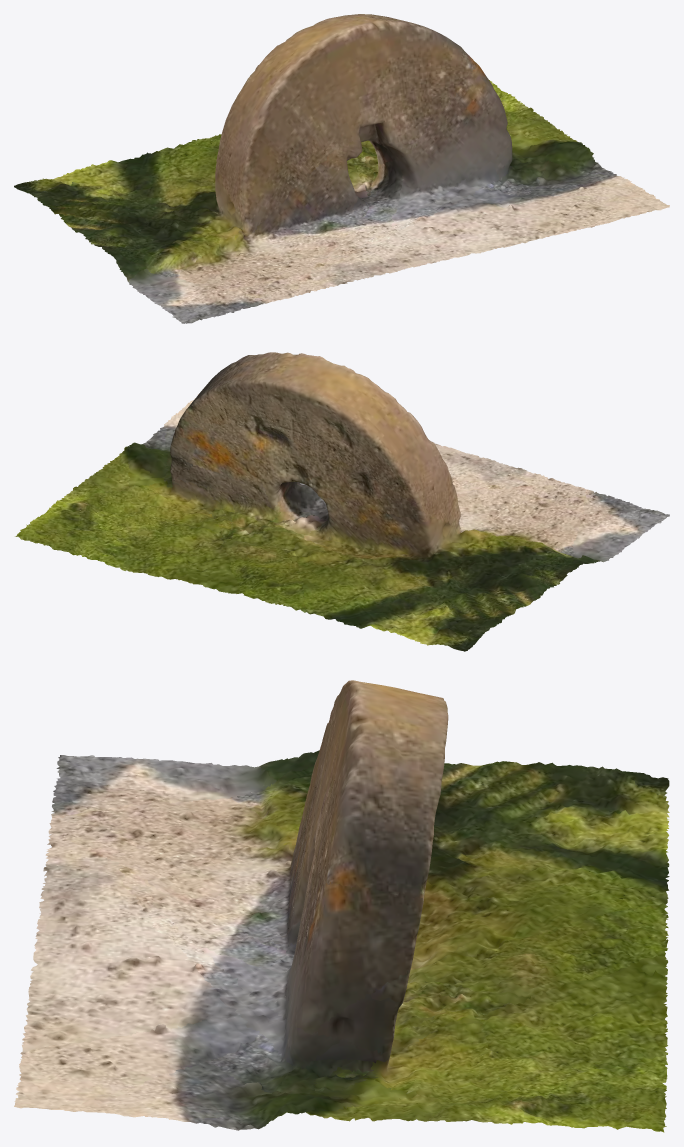
The model's file is millstone.glb.
The picture shows the model from 3 angles, top to bottom: view 1: azimuth 30°, elevation 25°; view 2: azimuth 150°, elevation 25°; view 3: azimuth 270°, elevation 25°; orthographic projection. The views are drawn at different scales.
Visible parts, largest first — view 1: 2019-08-23-Millstonegtrdstghrdsbhdryntbg_0; view 2: 2019-08-23-Millstonegtrdstghrdsbhdryntbg_0; view 3: 2019-08-23-Millstonegtrdstghrdsbhdryntbg_0.
Boxes of the visible parts, left/top/right/bottom form: 2019-08-23-Millstonegtrdstghrdsbhdryntbg_0: left=14, top=14, right=669, bottom=323; 2019-08-23-Millstonegtrdstghrdsbhdryntbg_0: left=15, top=352, right=669, bottom=651; 2019-08-23-Millstonegtrdstghrdsbhdryntbg_0: left=14, top=680, right=669, bottom=1132.
Bounding box in the file's own units: 2.13 × 0.739 × 1.57.
Materials: 1 (1 with a texture image).
